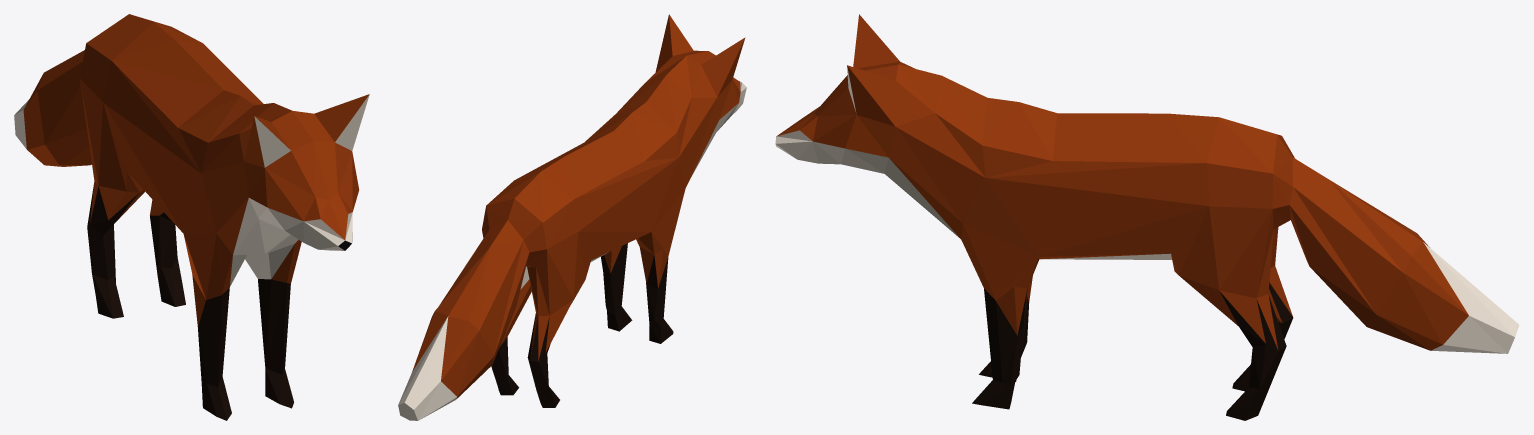
File: fox.obj
3 views of the same model, side by side, from view 1: azimuth 30°, elevation 25°; view 2: azimuth 150°, elevation 25°; view 3: azimuth 270°, elevation 25° (orthographic). The views are drawn at different scales.
Parts seen in each view (by area): view 1: FoxObject_FoxMesh; view 2: FoxObject_FoxMesh; view 3: FoxObject_FoxMesh.
Boxes of the visible parts, x1,y1,x2,y2 form: FoxObject_FoxMesh: (14, 14, 369, 420); FoxObject_FoxMesh: (398, 14, 746, 420); FoxObject_FoxMesh: (775, 14, 1519, 420).
Bounding box in the file's own units: 1.1 × 2.72 × 5.3.
